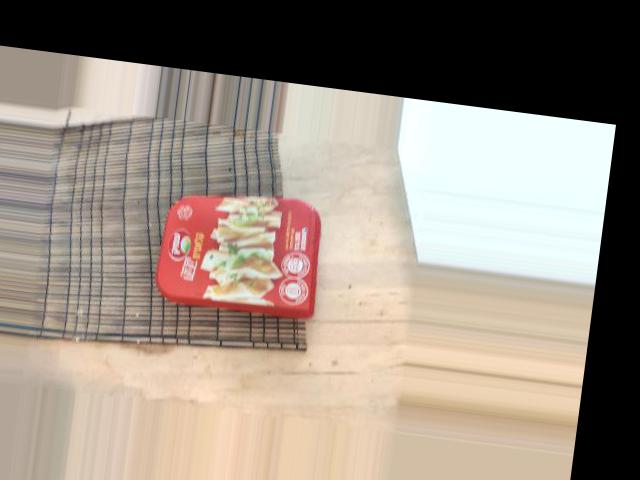cheese: (99, 97, 250, 293)
